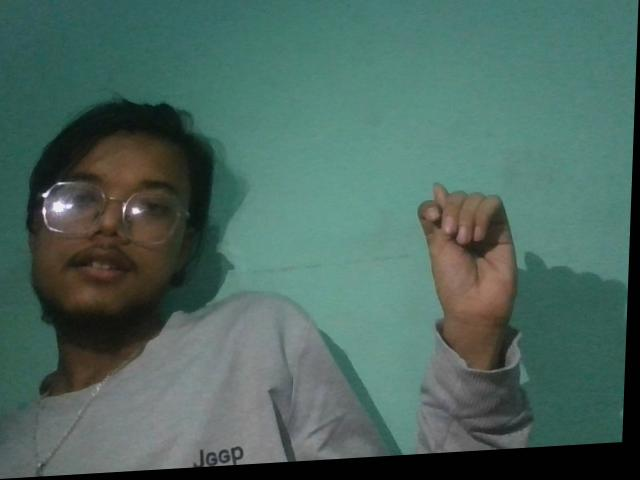Washroom: (408, 173, 543, 356)
